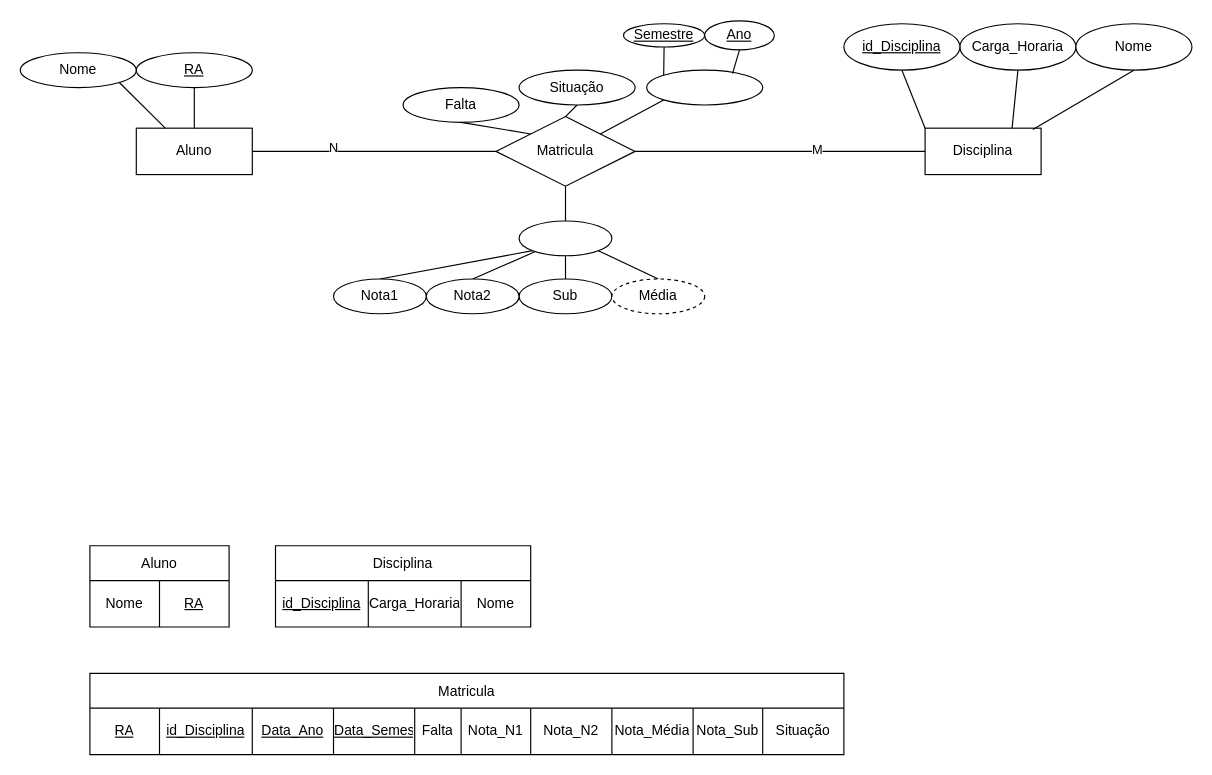
The diagram is 1212 pixels wide and 775 high, and some of its shapes have lost their labels. The shapes that lost their labels are listed below. From the top down, each one's box as (x1, y1, x2, y2) in pixels, then its label:
(646, 69, 763, 105): Data
(518, 220, 612, 256): Nota
